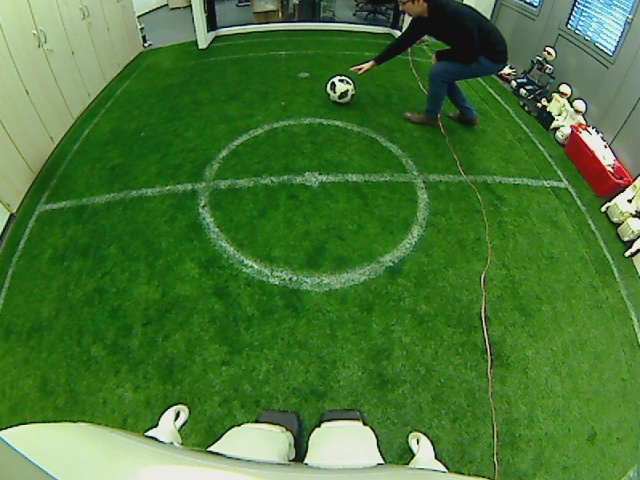ball: (325, 73, 356, 106)
